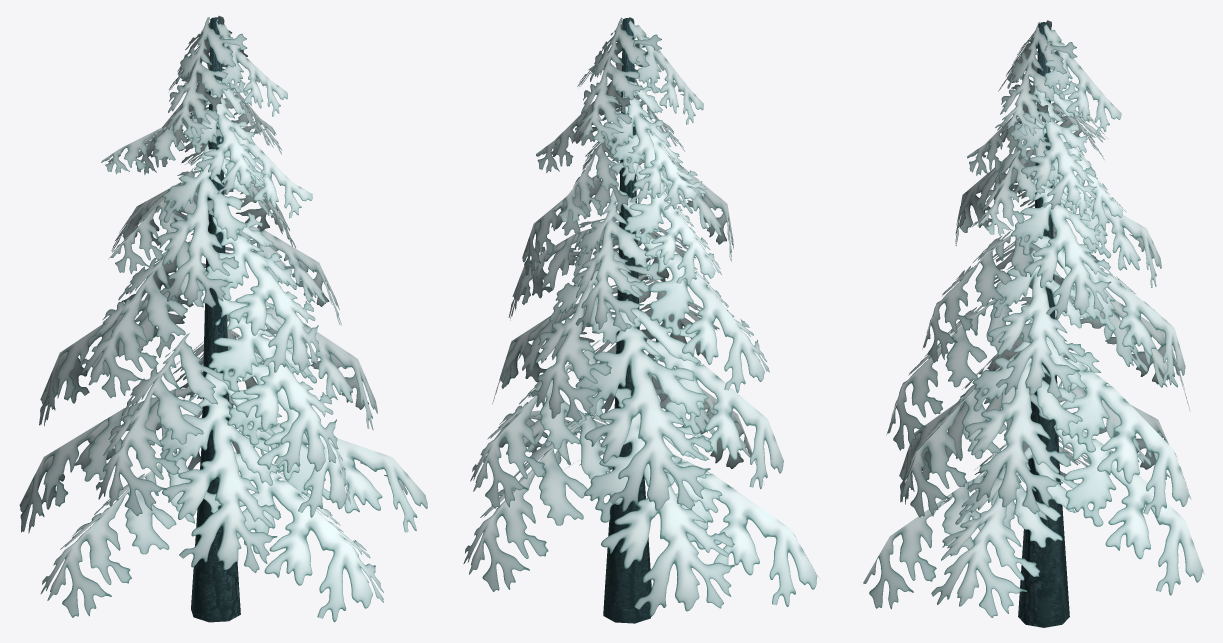
The model's file is Winter Tree.glb.
The picture shows the model from 3 angles, left to right: view 1: azimuth 30°, elevation 25°; view 2: azimuth 150°, elevation 25°; view 3: azimuth 270°, elevation 25°; orthographic projection.
Parts seen in each view (by area): view 1: node_id33, node_id31; view 2: node_id33, node_id31; view 3: node_id33, node_id31.
Boxes of the visible parts, x1,y1,x2,y2 form: node_id33: [19, 16, 427, 622]; node_id31: [191, 17, 240, 622]; node_id33: [463, 17, 818, 616]; node_id31: [603, 18, 651, 623]; node_id33: [863, 20, 1204, 617]; node_id31: [1018, 22, 1069, 627].
Bounding box in the file's own units: 0.3268 × 0.512 × 0.2755.
Materials: 2 (2 with a texture image).
